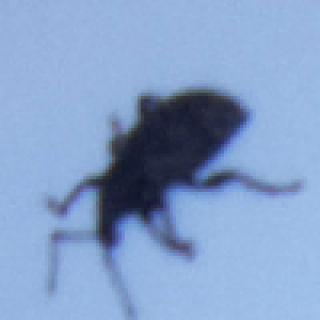bvw: (35, 84, 308, 320)
